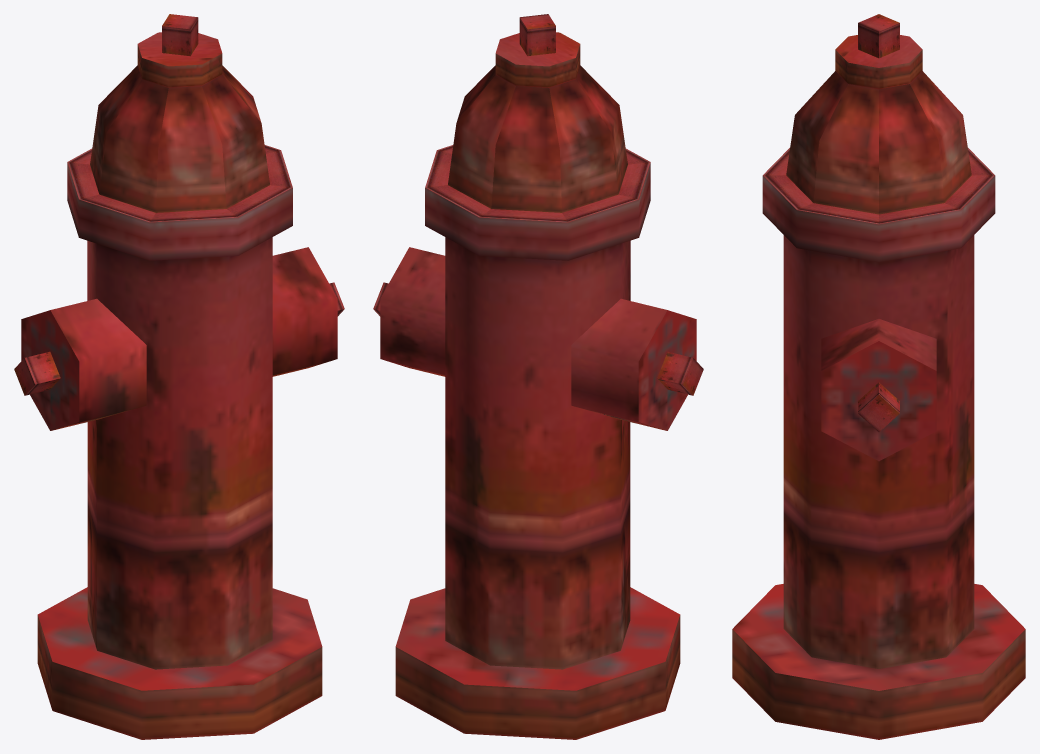
The model's file is hydrantred.fbx.
The picture shows the model from 3 angles, left to right: view 1: azimuth 30°, elevation 25°; view 2: azimuth 150°, elevation 25°; view 3: azimuth 270°, elevation 25°; orthographic projection.
Visible parts, largest first — view 1: mesh_0; view 2: mesh_0; view 3: mesh_0.
Boxes of the visible parts, box(x1,y1,x2,y2) form: mesh_0: box(14, 14, 344, 739); mesh_0: box(373, 14, 703, 739); mesh_0: box(732, 14, 1025, 739).
Bounding box in the file's own units: 40.05 × 81.31 × 33.
1 material, 1 textured.
